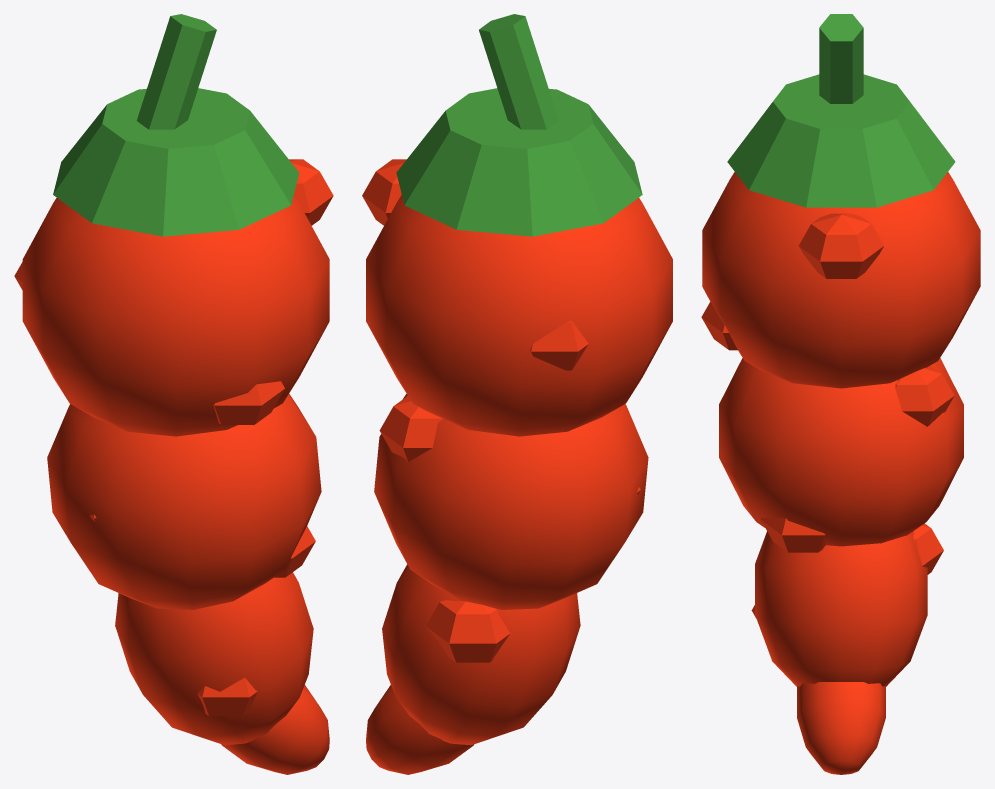
File: Fruto_InfernoPepper.fbx
The picture shows the model from 3 angles, left to right: view 1: azimuth 30°, elevation 25°; view 2: azimuth 150°, elevation 25°; view 3: azimuth 270°, elevation 25°; orthographic projection. The views are drawn at different scales.
Parts seen in each view (by area): view 1: Produto_InfernoPepper, Cabo_InfernoPepper; view 2: Produto_InfernoPepper, Cabo_InfernoPepper; view 3: Produto_InfernoPepper, Cabo_InfernoPepper.
Part boxes in pixels (<box>): Produto_InfernoPepper: <box>14,159,333,774</box>; Cabo_InfernoPepper: <box>53,14,299,236</box>; Produto_InfernoPepper: <box>362,159,672,774</box>; Cabo_InfernoPepper: <box>396,14,642,236</box>; Produto_InfernoPepper: <box>701,172,980,774</box>; Cabo_InfernoPepper: <box>727,14,955,207</box>.
Size of the model in its own units: 0.4667 by 1.23 by 0.4401.
1 material, 1 textured.
